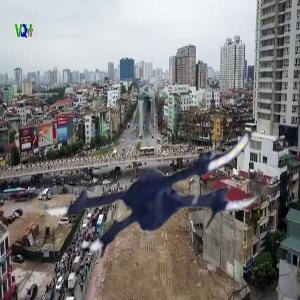drone: (46, 70, 262, 286)
